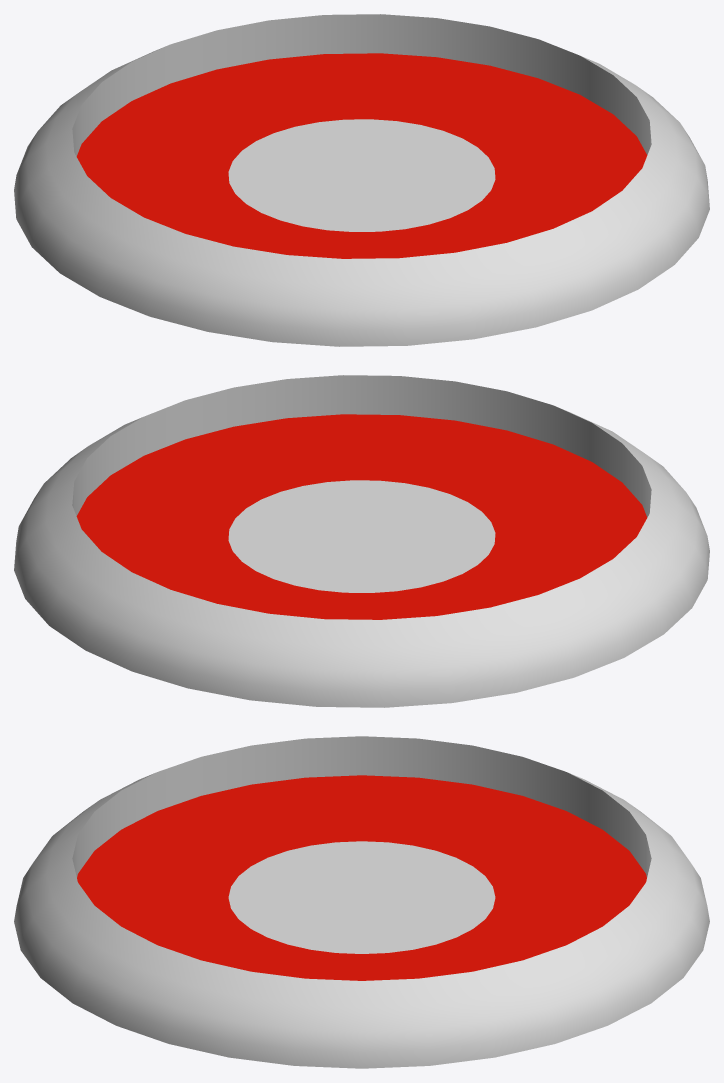
Rendered from Player.fbx.
The picture shows the model from 3 angles, top to bottom: view 1: azimuth 30°, elevation 25°; view 2: azimuth 150°, elevation 25°; view 3: azimuth 270°, elevation 25°; orthographic projection.
Visible parts, largest first — view 1: Player; view 2: Player; view 3: Player.
Part boxes in pixels (x1,y1,x2,y2): Player: (14, 14, 709, 346); Player: (14, 375, 709, 707); Player: (14, 736, 709, 1068).
Bounding box in the file's own units: 200 × 20 × 200.
